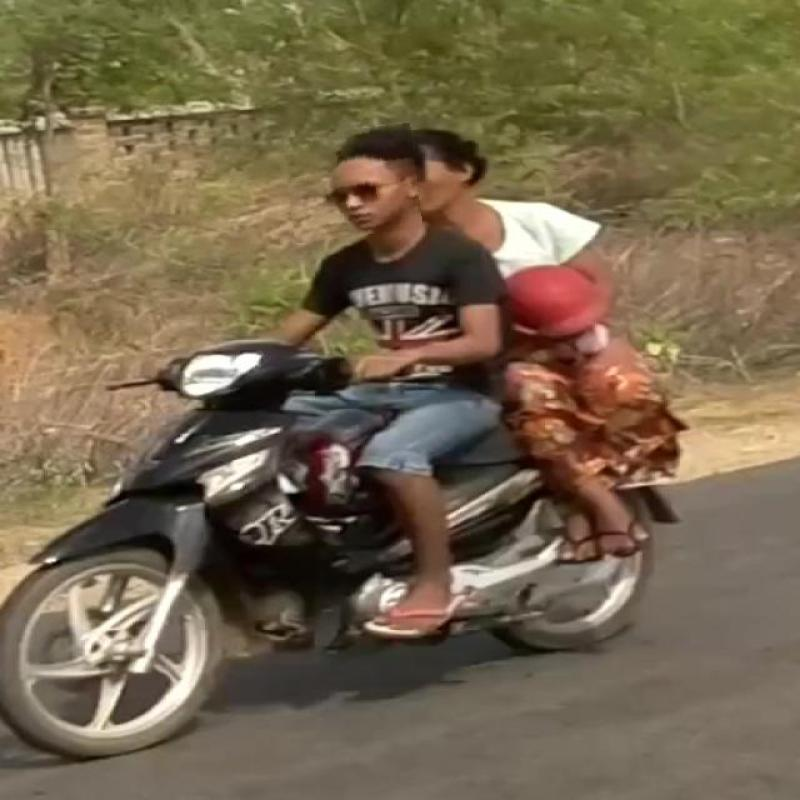nohelmet: (285, 127, 420, 240)
